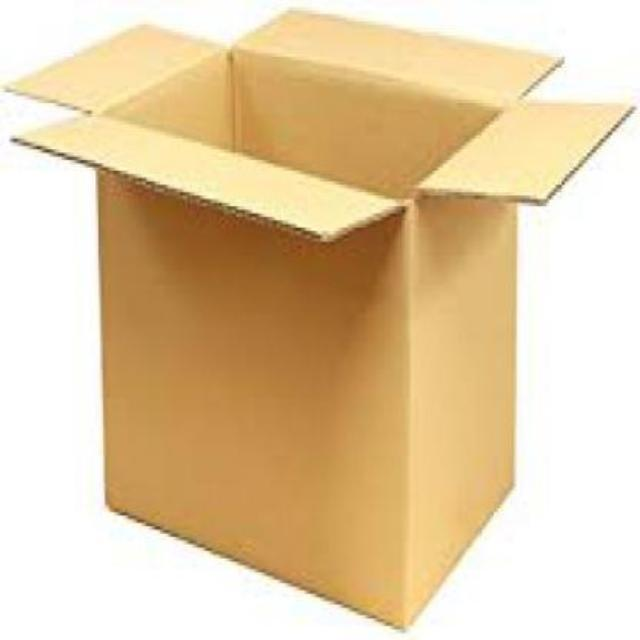cardboard_box: (20, 15, 632, 628)
